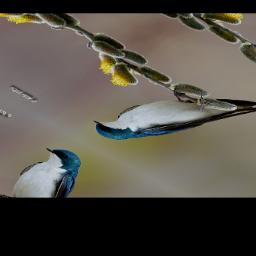Swallow: (83, 63, 256, 171)
